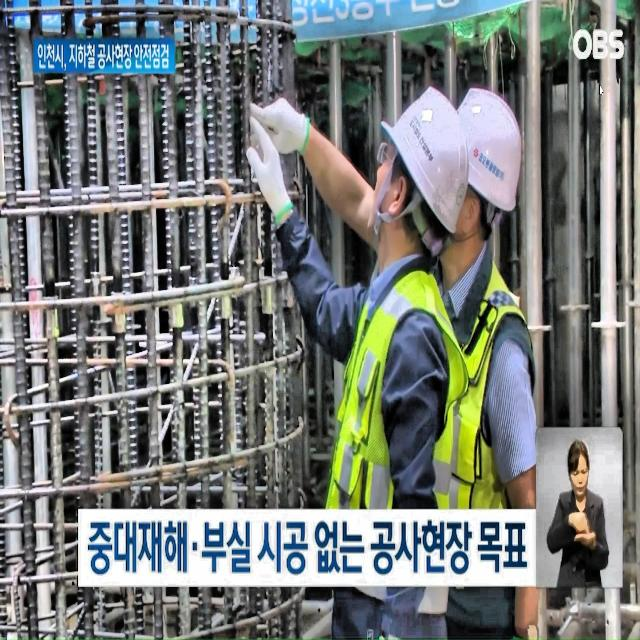safety_helmet: (442, 82, 546, 258), (352, 82, 456, 213)
safety_jacket: (446, 276, 548, 604), (328, 257, 429, 534)
